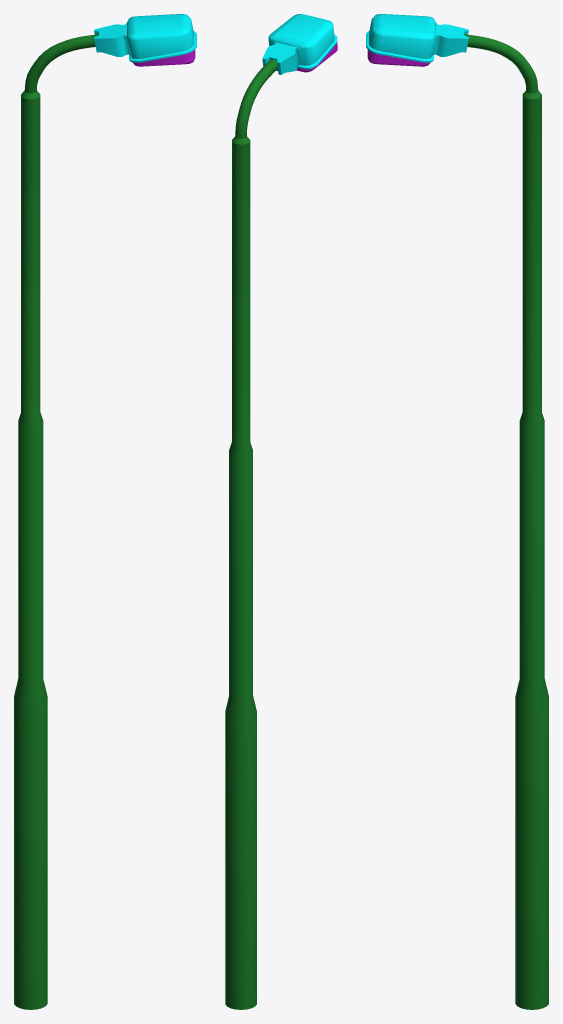
The model's file is lampe.fbx.
The picture shows the model from 3 angles, left to right: view 1: azimuth 90°, elevation 25°; view 2: azimuth 150°, elevation 25°; view 3: azimuth 270°, elevation 25°; orthographic projection. The views are drawn at different scales.
Visible parts, largest first — view 1: Cylinder001, Box001, Box002; view 2: Cylinder001, Box001; view 3: Cylinder001, Box001, Box002.
Part boxes in pixels (left/top/right/bottom): Cylinder001: left=14, top=34, right=98, bottom=1009; Box001: left=94, top=14, right=196, bottom=62; Box002: left=132, top=49, right=195, bottom=66; Cylinder001: left=225, top=59, right=277, bottom=1009; Box001: left=262, top=14, right=337, bottom=74; Cylinder001: left=464, top=34, right=548, bottom=1009; Box001: left=366, top=14, right=468, bottom=62; Box002: left=367, top=49, right=430, bottom=66.
Size of the model in its own units: 10.69 by 197 by 33.27.
